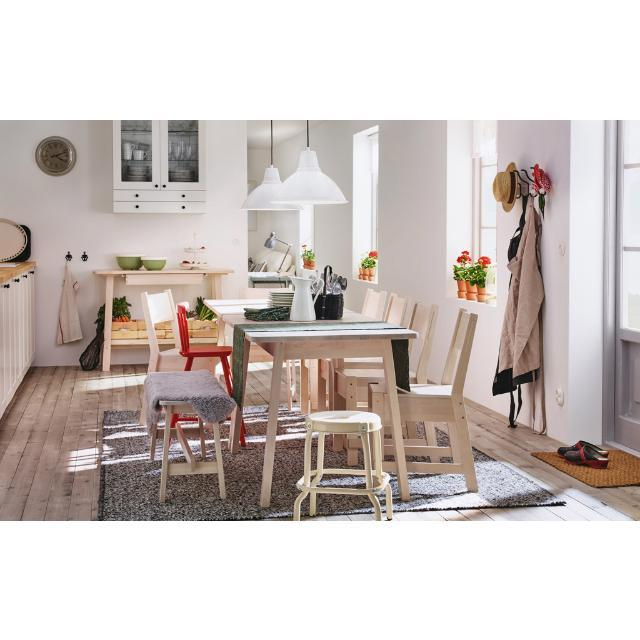chair: (396, 313, 478, 493)
clock: (35, 135, 76, 175)
light: (271, 120, 348, 204), (240, 128, 302, 209)
plant: (454, 250, 471, 297), (475, 255, 491, 301), (465, 265, 478, 300)
rug: (99, 405, 304, 520), (390, 448, 564, 512), (531, 449, 640, 488), (316, 494, 374, 515)
shelf: (113, 119, 206, 212)
stool: (294, 410, 392, 520)
table: (94, 266, 234, 370), (151, 400, 226, 503)
